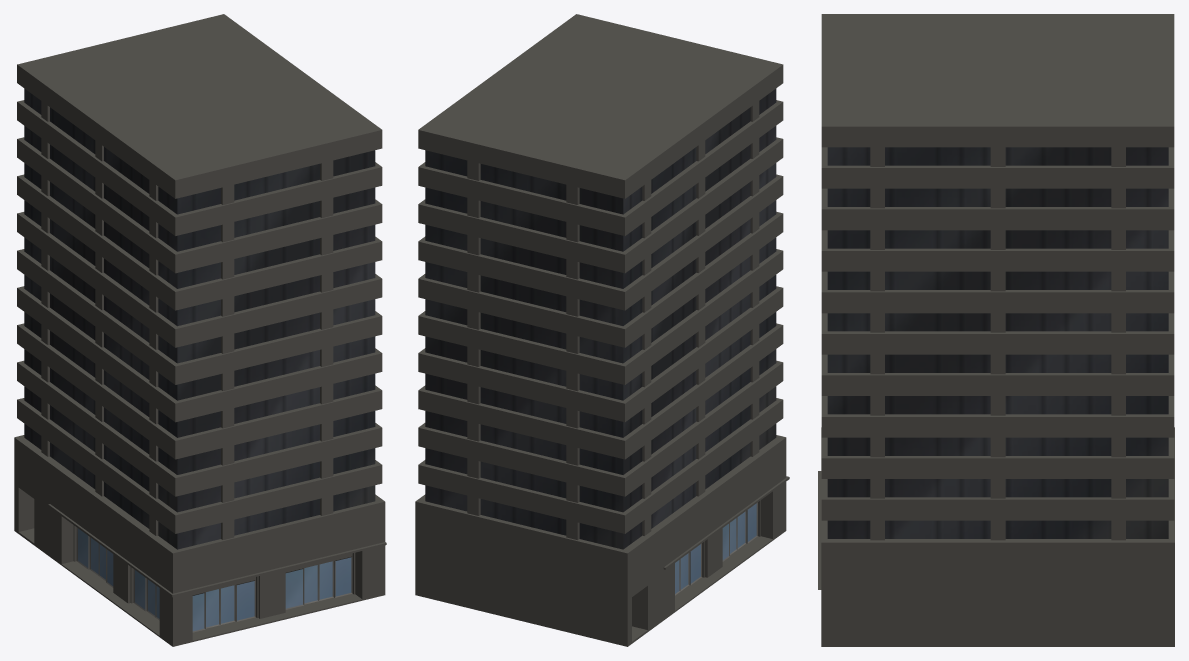
File: Bld_Building_FB.fbx
3 views of the same model, side by side, from view 1: azimuth 30°, elevation 25°; view 2: azimuth 150°, elevation 25°; view 3: azimuth 270°, elevation 25° (orthographic). The views are drawn at different scales.
Visible parts, largest first — view 1: Bld_Building_FB; view 2: Bld_Building_FB; view 3: Bld_Building_FB.
Boxes of the visible parts, <box> form: Bld_Building_FB: <box>14,14,386,646</box>; Bld_Building_FB: <box>415,14,789,646</box>; Bld_Building_FB: <box>818,14,1174,646</box>.
Size of the model in its own units: 1686 by 3500 by 2181.
